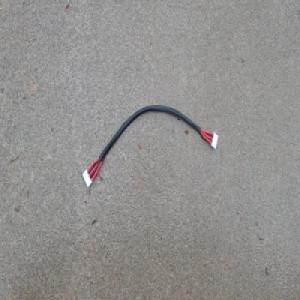Wire: (81, 103, 219, 189)
